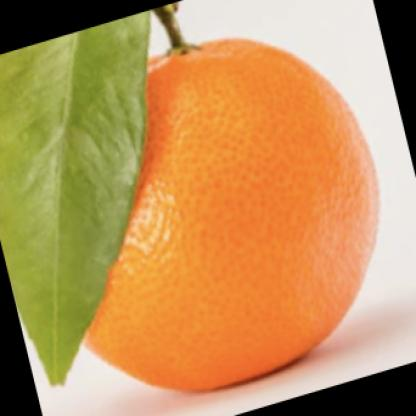fresh: (73, 40, 382, 392)
